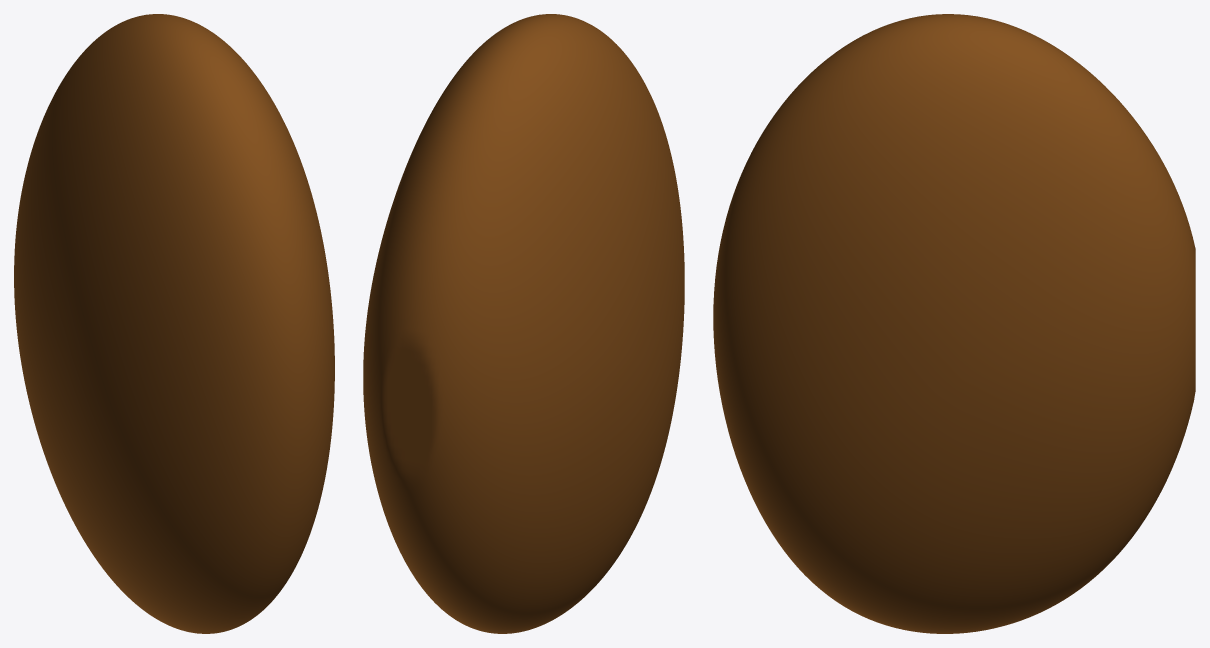
Rendered from SM_AmberHero_Body.obj.
3 views of the same model, side by side, from view 1: azimuth 30°, elevation 25°; view 2: azimuth 150°, elevation 25°; view 3: azimuth 270°, elevation 25° (orthographic). The views are drawn at different scales.
Visible parts, largest first — view 1: Body; view 2: Body; view 3: Body.
Part boxes in pixels (x1=…): Body: x1=14, y1=14, x2=334, y2=633; Body: x1=363, y1=14, x2=684, y2=633; Body: x1=713, y1=14, x2=1195, y2=633.
Bounding box in the file's own units: 4.2 × 11 × 7.88.
